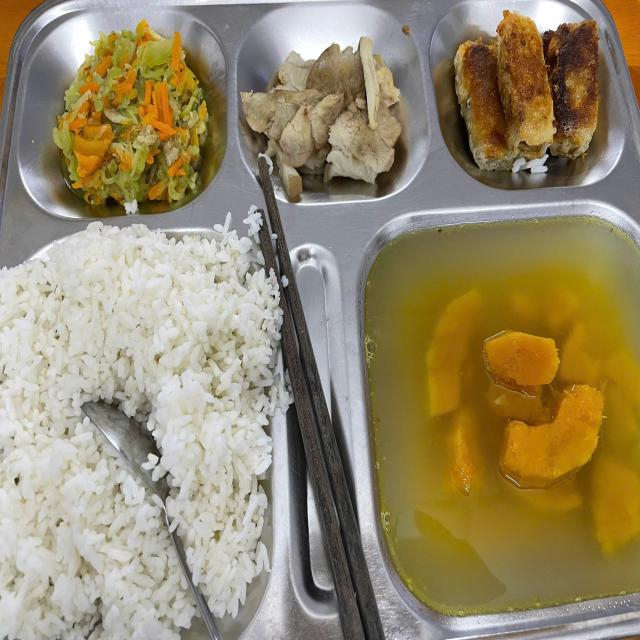caixao: (55, 29, 210, 197)
canhbido: (379, 234, 640, 605)
chagiochien: (448, 17, 602, 170)
salad: (0, 230, 270, 629)
thitram: (245, 36, 404, 186)
